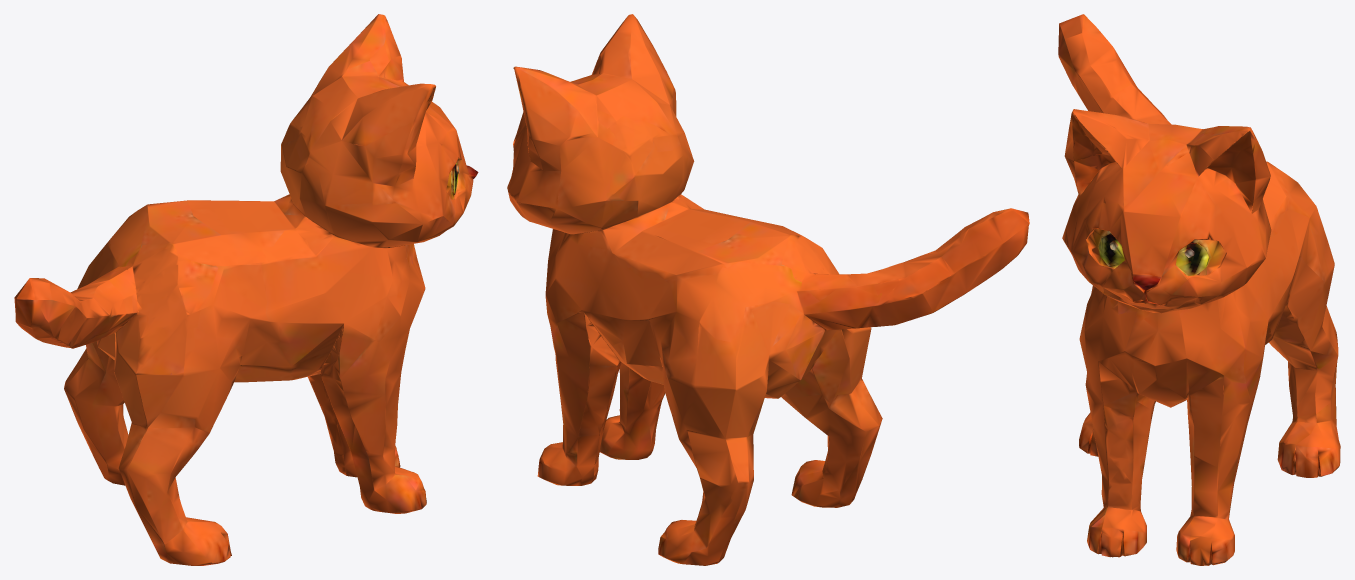
File: COTTAPAW-lo.glb
3 renders of one model, left to right at view 1: azimuth 30°, elevation 25°; view 2: azimuth 150°, elevation 25°; view 3: azimuth 270°, elevation 25°, orthographic. The views are drawn at different scales.
Visible parts, largest first — view 1: fit; view 2: fit; view 3: fit.
Part boxes in pixels (x1,y1,x2,y2): fit: [14, 14, 478, 565]; fit: [507, 14, 1029, 565]; fit: [1058, 14, 1340, 565].
Size of the model in its own units: 1.2 by 1 by 0.5769.
1 material, 1 textured.
